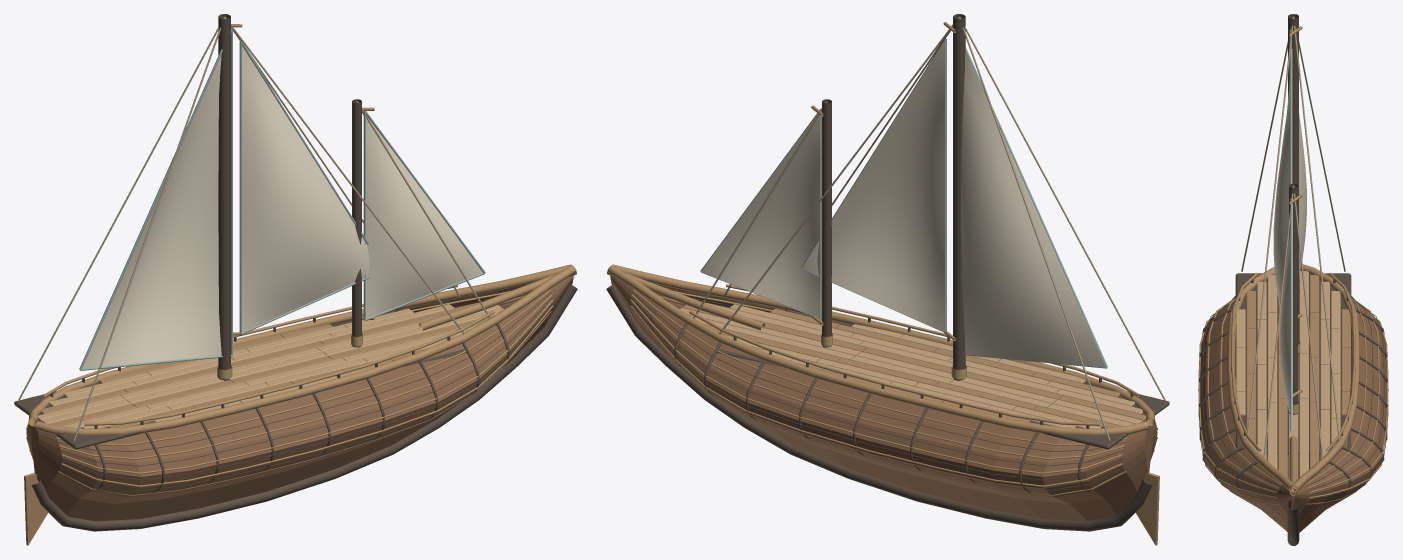
File: world09-sky-skiff-v1.glb
The picture shows the model from 3 angles, left to right: view 1: azimuth 30°, elevation 25°; view 2: azimuth 150°, elevation 25°; view 3: azimuth 270°, elevation 25°; orthographic projection. The views are drawn at different scales.
Visible parts, largest first — view 1: sky-skiff-body-walnut-hull, sky-skiff-body-warm-oak, sky-skiff-sail-a-sail-ivory, sky-skiff-sail-b-sail-ivory, sky-skiff-body-dark-joinery, sky-skiff-body-pale-deck, sky-skiff-sail-c-sail-ivory, sky-skiff-body-hemp-rope, sky-skiff-sail-a-sail-edge, sky-skiff-sail-b-sail-edge, sky-skiff-sail-c-sail-edge; view 2: sky-skiff-body-walnut-hull, sky-skiff-body-warm-oak, sky-skiff-sail-a-sail-ivory, sky-skiff-sail-b-sail-ivory, sky-skiff-body-dark-joinery, sky-skiff-body-pale-deck, sky-skiff-sail-c-sail-ivory, sky-skiff-body-hemp-rope, sky-skiff-sail-b-sail-edge, sky-skiff-sail-a-sail-edge, sky-skiff-sail-c-sail-edge; view 3: sky-skiff-body-warm-oak, sky-skiff-body-walnut-hull, sky-skiff-body-pale-deck, sky-skiff-body-dark-joinery, sky-skiff-body-hemp-rope, sky-skiff-sail-b-sail-ivory, sky-skiff-sail-c-sail-ivory, sky-skiff-sail-a-sail-ivory, sky-skiff-sail-c-sail-edge, sky-skiff-sail-b-sail-edge.
Boxes of the visible parts, <box> form: sky-skiff-body-walnut-hull: <box>26,275,573,521</box>; sky-skiff-body-warm-oak: <box>24,24,576,545</box>; sky-skiff-sail-a-sail-ivory: <box>82,55,221,368</box>; sky-skiff-sail-b-sail-ivory: <box>240,41,369,331</box>; sky-skiff-body-dark-joinery: <box>14,14,577,531</box>; sky-skiff-body-pale-deck: <box>37,304,503,428</box>; sky-skiff-sail-c-sail-ivory: <box>364,111,482,318</box>; sky-skiff-body-hemp-rope: <box>18,16,490,440</box>; sky-skiff-sail-a-sail-edge: <box>79,28,232,370</box>; sky-skiff-sail-b-sail-edge: <box>239,40,370,334</box>; sky-skiff-sail-c-sail-edge: <box>363,110,485,321</box>; sky-skiff-body-walnut-hull: <box>610,275,1157,521</box>; sky-skiff-body-warm-oak: <box>607,22,1159,545</box>; sky-skiff-sail-a-sail-ivory: <box>961,51,1106,367</box>; sky-skiff-sail-b-sail-ivory: <box>801,39,945,331</box>; sky-skiff-body-dark-joinery: <box>606,14,1169,531</box>; sky-skiff-body-pale-deck: <box>680,302,1142,428</box>; sky-skiff-sail-c-sail-ivory: <box>701,114,820,318</box>; sky-skiff-body-hemp-rope: <box>693,16,1165,440</box>; sky-skiff-sail-b-sail-edge: <box>801,38,946,331</box>; sky-skiff-sail-a-sail-edge: <box>965,47,1107,368</box>; sky-skiff-sail-c-sail-edge: <box>700,109,821,319</box>; sky-skiff-body-warm-oak: <box>1198,26,1388,504</box>; sky-skiff-body-walnut-hull: <box>1200,301,1386,532</box>; sky-skiff-body-pale-deck: <box>1236,271,1340,479</box>; sky-skiff-body-dark-joinery: <box>1198,14,1388,545</box>; sky-skiff-body-hemp-rope: <box>1241,16,1345,457</box>; sky-skiff-sail-b-sail-ivory: <box>1273,49,1292,310</box>; sky-skiff-sail-c-sail-ivory: <box>1280,203,1292,431</box>; sky-skiff-sail-a-sail-ivory: <box>1291,40,1306,277</box>; sky-skiff-sail-c-sail-edge: <box>1290,198,1292,432</box>; sky-skiff-sail-b-sail-edge: <box>1290,48,1291,184</box>.
Bounding box in the file's own units: 24.18 × 20.71 × 7.75.
